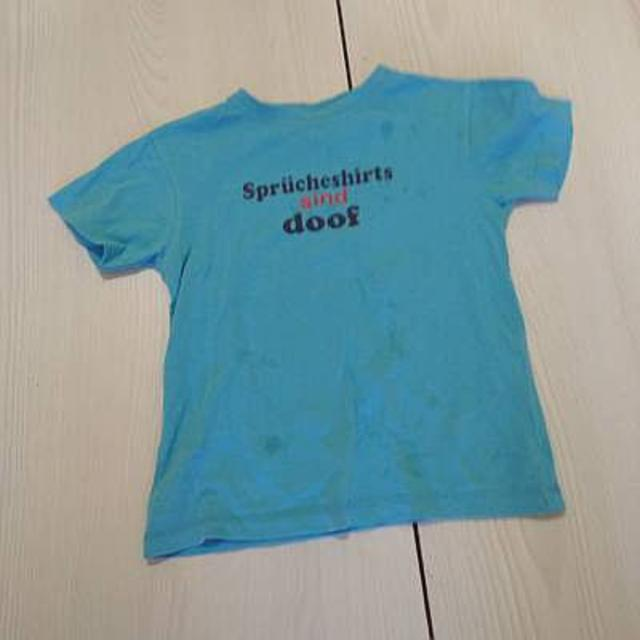T_SHIRT: (42, 51, 588, 578)
